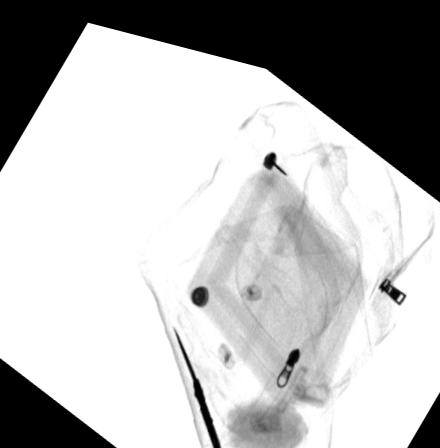Knife: (170, 316, 224, 448)
